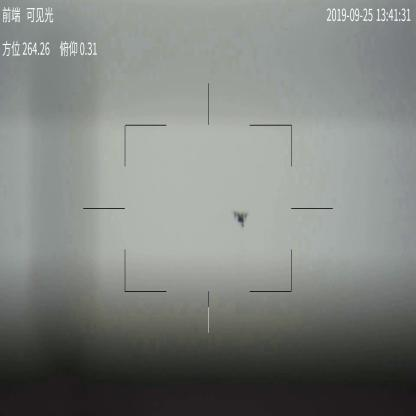uav: (232, 207, 249, 230)
